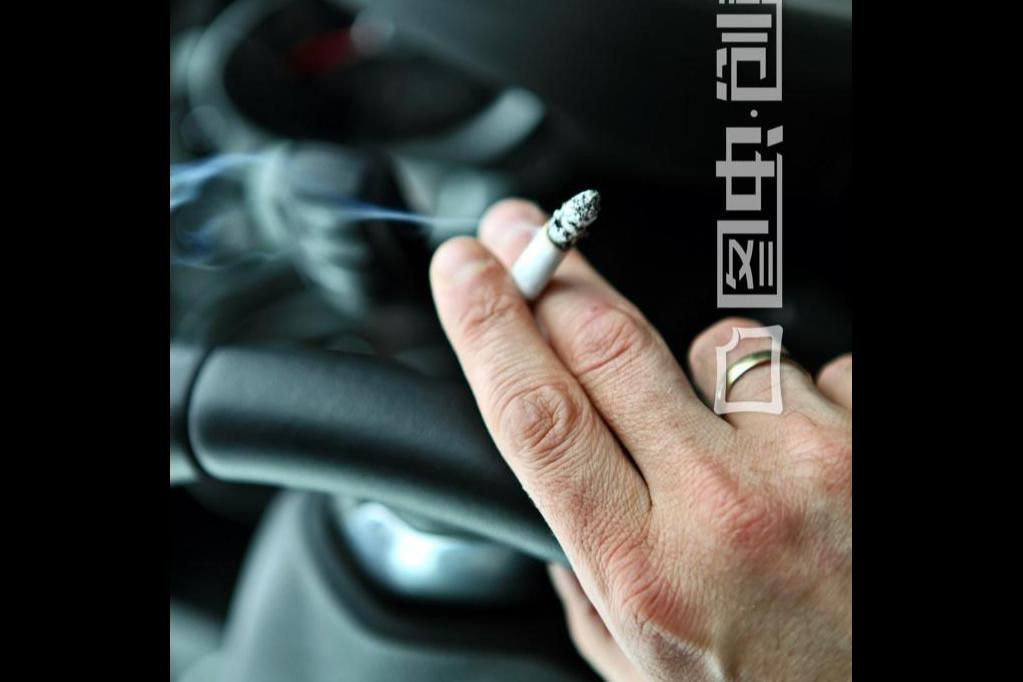Cigarette: (450, 188, 602, 346)
Smoke: (172, 138, 533, 295)
